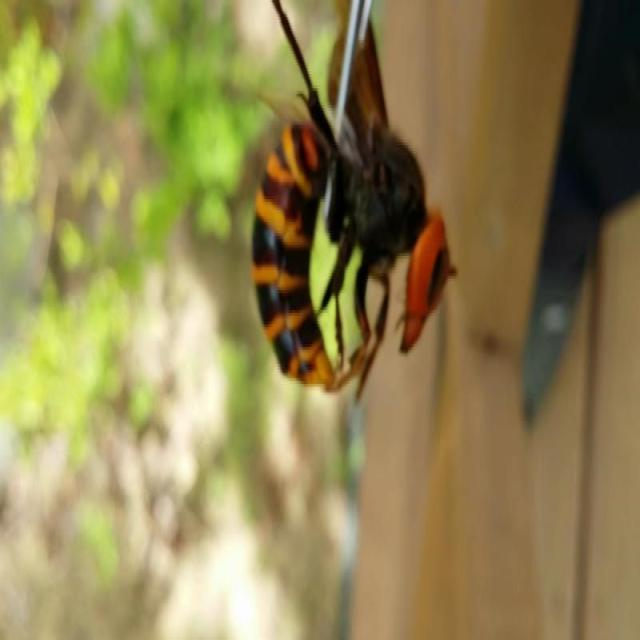Wasp: (235, 0, 468, 399)
